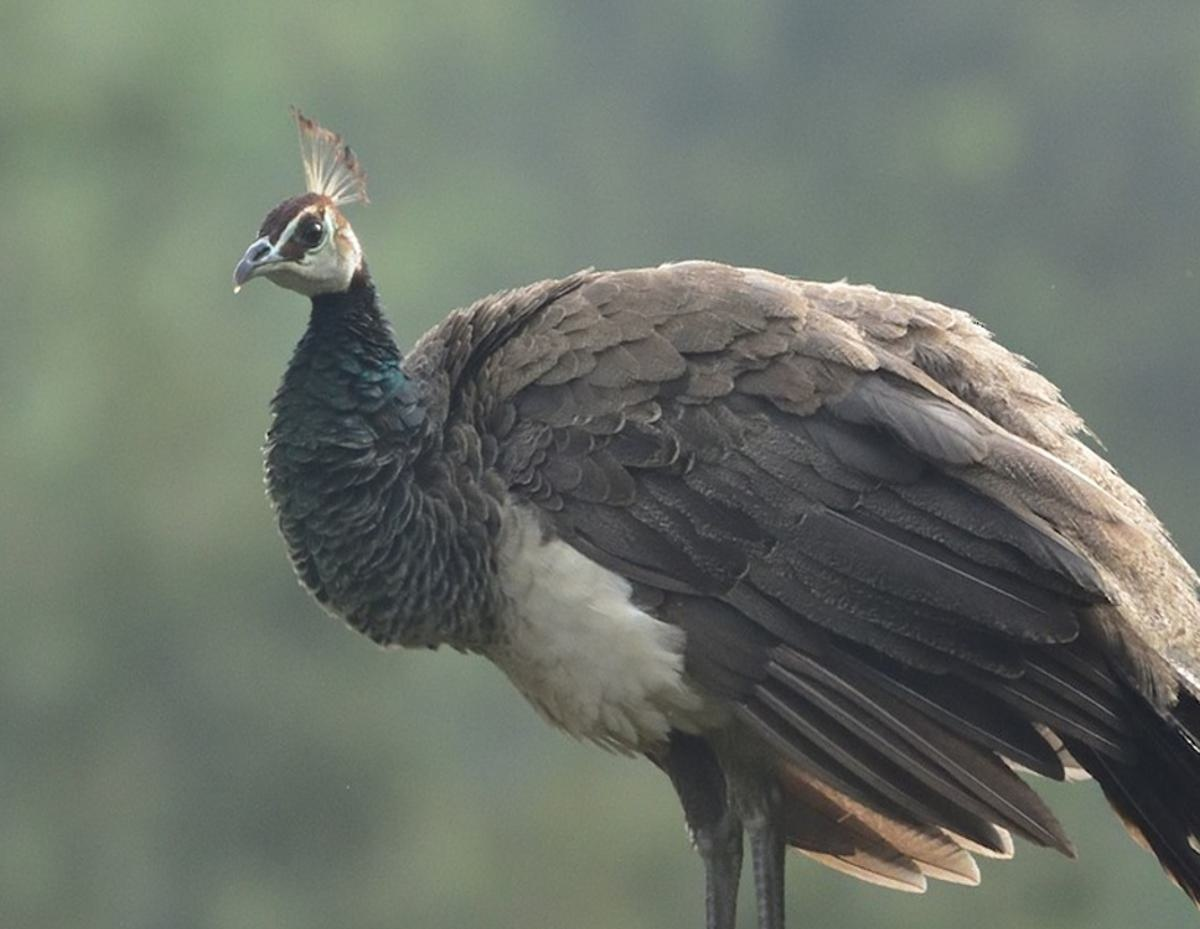peacock: (158, 135, 1114, 897)
